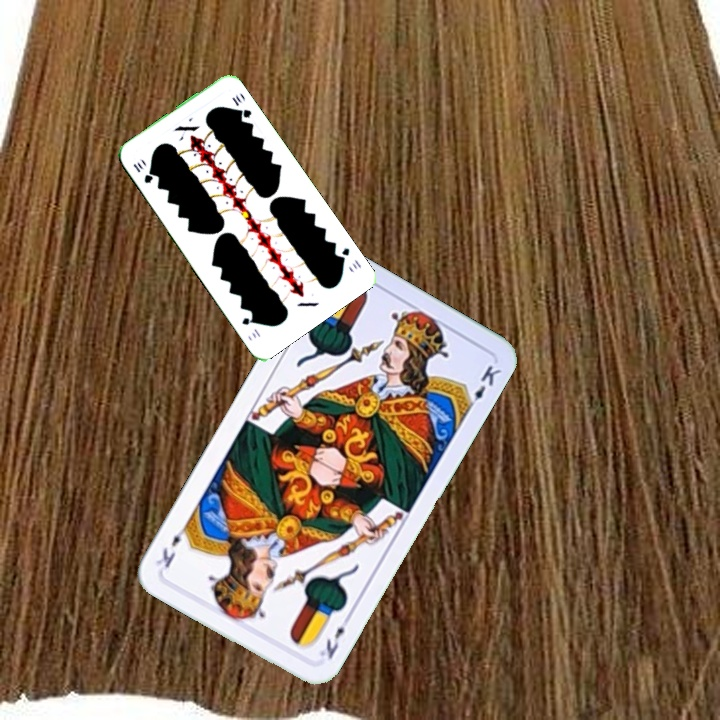EK: (315, 611, 354, 662)
G10: (335, 243, 364, 272), (129, 157, 156, 186)
